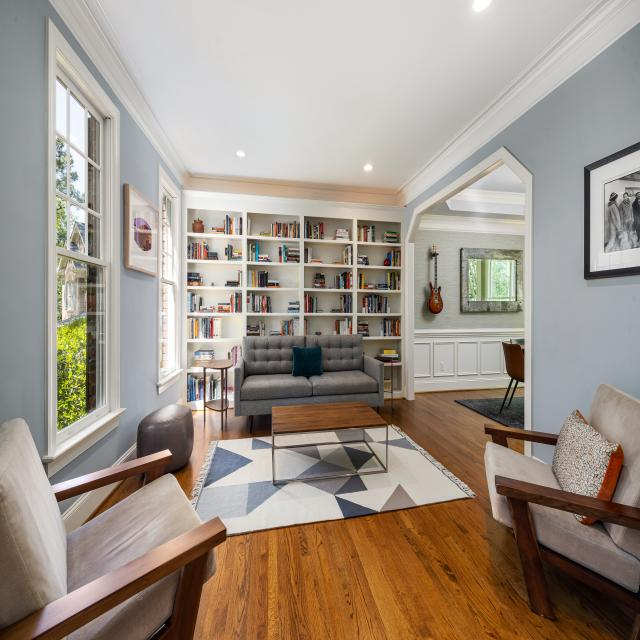floor: (192, 388, 637, 640), (170, 408, 272, 500), (80, 472, 146, 528)
wall: (404, 22, 640, 435), (414, 201, 525, 392), (57, 478, 126, 536), (461, 248, 523, 312), (408, 243, 415, 400), (408, 215, 422, 243)
